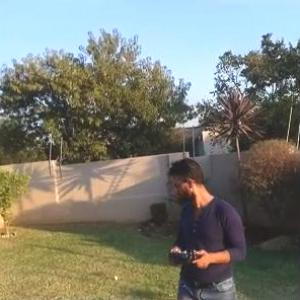follow: (166, 154, 252, 299)
